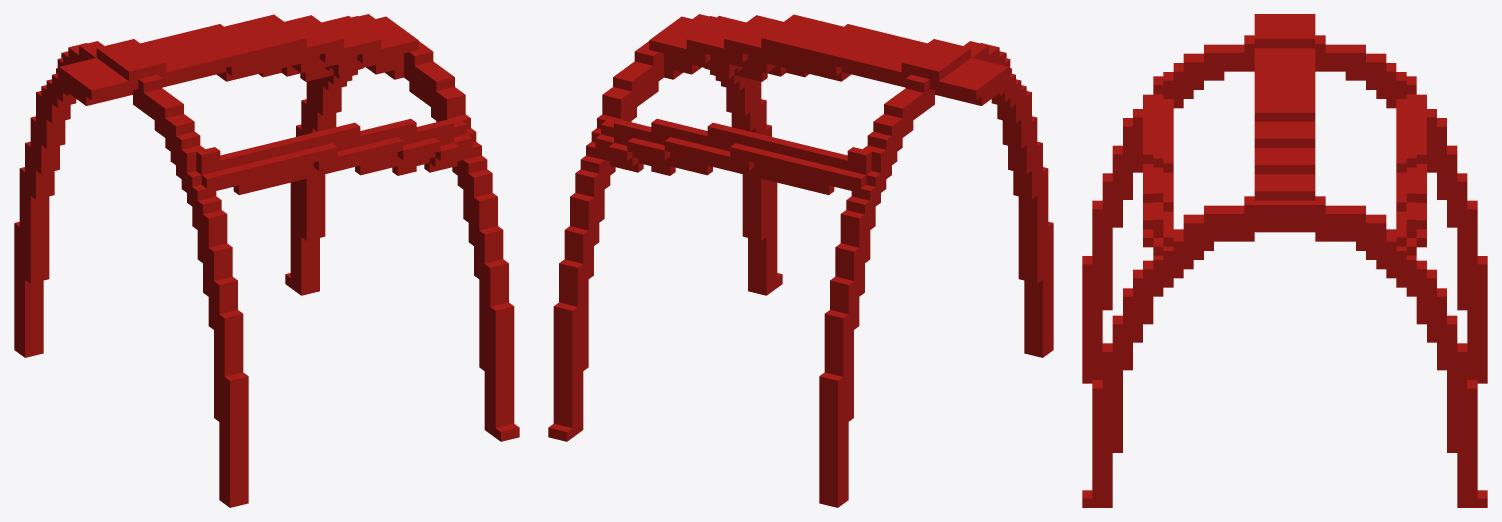
The model's file is light_helicopter_canopy_frame.glb.
The picture shows the model from 3 angles, left to right: view 1: azimuth 30°, elevation 25°; view 2: azimuth 150°, elevation 25°; view 3: azimuth 270°, elevation 25°; orthographic projection. The views are drawn at different scales.
Parts seen in each view (by area): view 1: body:compound; view 2: body:compound; view 3: body:compound.
Boxes of the visible parts, x1,y1,x2,y2 form: body:compound: [14, 14, 519, 507]; body:compound: [548, 14, 1053, 507]; body:compound: [1082, 14, 1487, 507].
Size of the model in its own units: 1.12 by 1.19 by 1.25.
